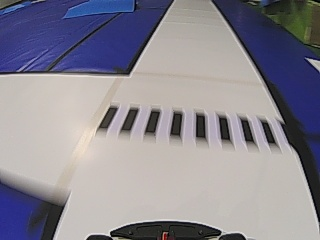CrossWalk: (97, 105, 277, 145)
